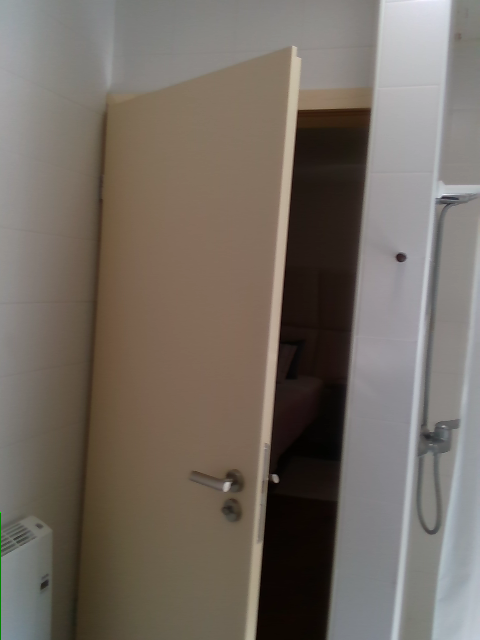semi: (71, 46, 377, 638)
